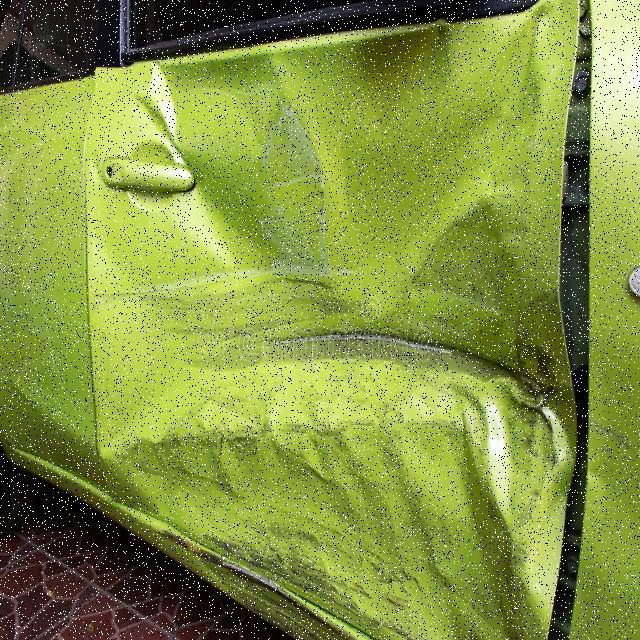doorouter-dent: (92, 20, 601, 630)
